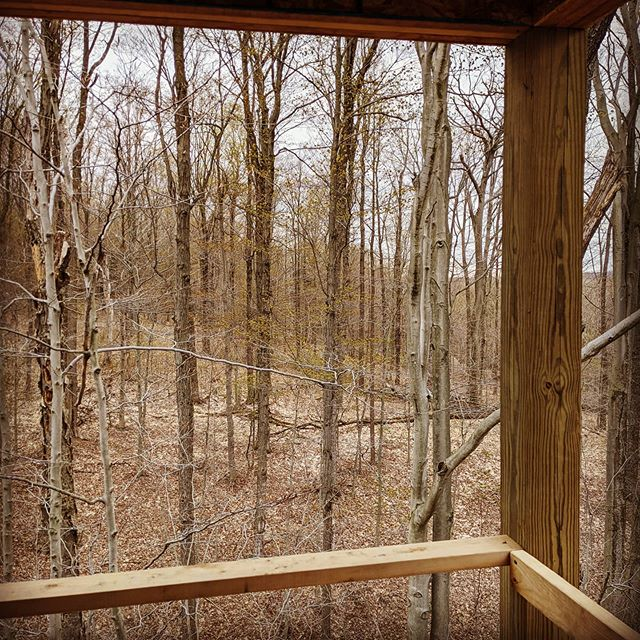vegetation: (1, 1, 498, 637)
